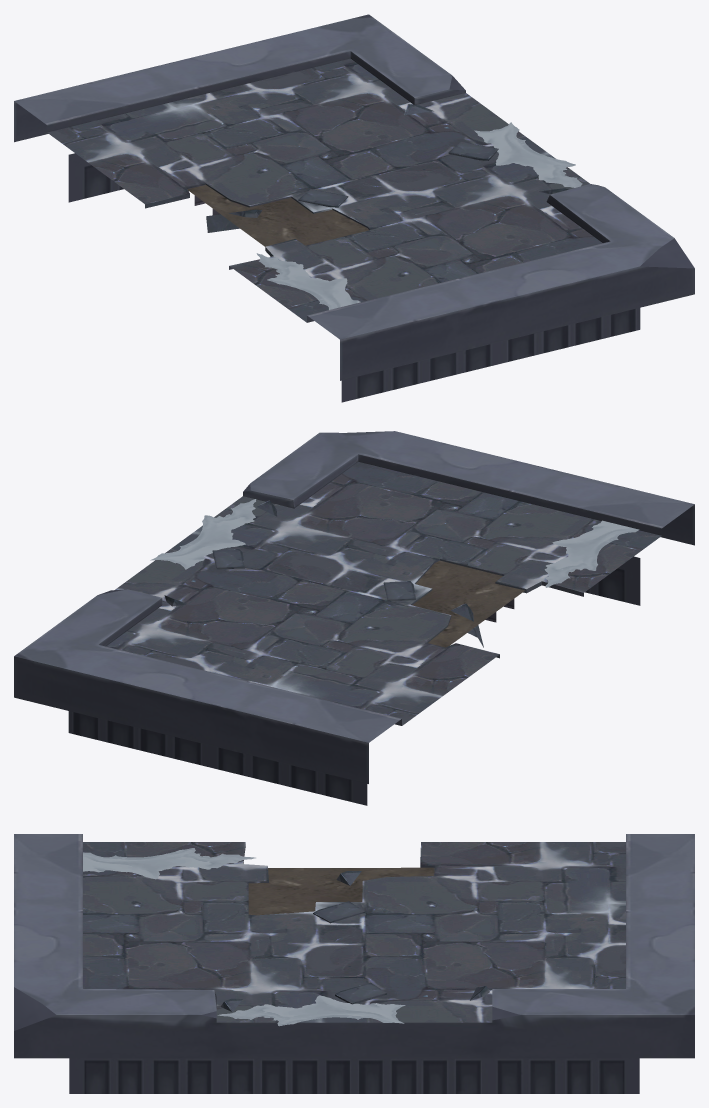
Rendered from Beidaying_xiaodimian.FBX.
3 views of the same model, one above another, from view 1: azimuth 30°, elevation 25°; view 2: azimuth 150°, elevation 25°; view 3: azimuth 270°, elevation 25° (orthographic). The views are drawn at different scales.
Parts seen in each view (by area): view 1: Beidaying_xiaodimian02, Beidaying_xiaodimian01, Beidaying_xiaodimian04, Beidaying_xiaodimian03; view 2: Beidaying_xiaodimian02, Beidaying_xiaodimian01, Beidaying_xiaodimian03, Beidaying_xiaodimian04; view 3: Beidaying_xiaodimian01, Beidaying_xiaodimian02, Beidaying_xiaodimian03, Beidaying_xiaodimian04.
Part boxes in pixels (x1,y1,x2,y2): Beidaying_xiaodimian02: (47,58,602,322); Beidaying_xiaodimian01: (14,14,694,402); Beidaying_xiaodimian04: (187,184,368,246); Beidaying_xiaodimian03: (256,122,582,309); Beidaying_xiaodimian02: (106,462,661,725); Beidaying_xiaodimian01: (14,431,694,805); Beidaying_xiaodimian03: (150,499,639,587); Beidaying_xiaodimian04: (412,560,524,647); Beidaying_xiaodimian01: (14,834,694,1093); Beidaying_xiaodimian02: (83,842,625,1022); Beidaying_xiaodimian03: (83,848,427,1026); Beidaying_xiaodimian04: (248,867,434,915).
Size of the model in its own units: 260 by 376 by 56.74.
